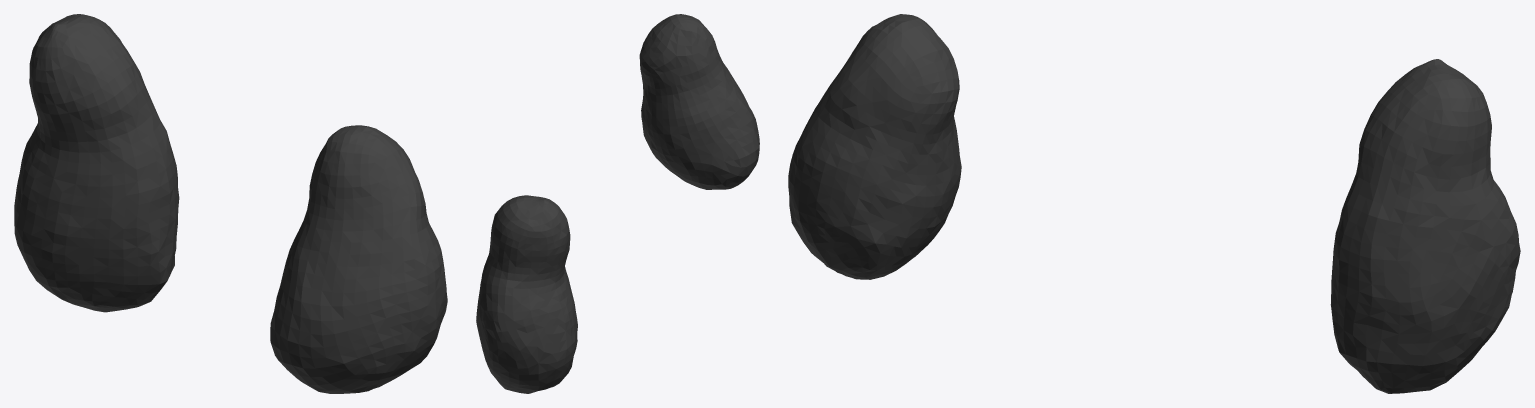
The model's file is lateral_fabellar_L.glb.
3 renders of one model, left to right at view 1: azimuth 30°, elevation 25°; view 2: azimuth 150°, elevation 25°; view 3: azimuth 270°, elevation 25°, orthographic. The views are drawn at different scales.
Visible parts, largest first — view 1: lateral_fabellar_L; view 2: lateral_fabellar_L; view 3: lateral_fabellar_L.
Boxes of the visible parts, x1,y1,x2,y2 form: lateral_fabellar_L: (14, 14, 447, 393); lateral_fabellar_L: (476, 14, 759, 393); lateral_fabellar_L: (788, 14, 1520, 393).
Size of the model in its own units: 0.0126 by 0.0272 by 0.0478.
1 material, 1 textured.
